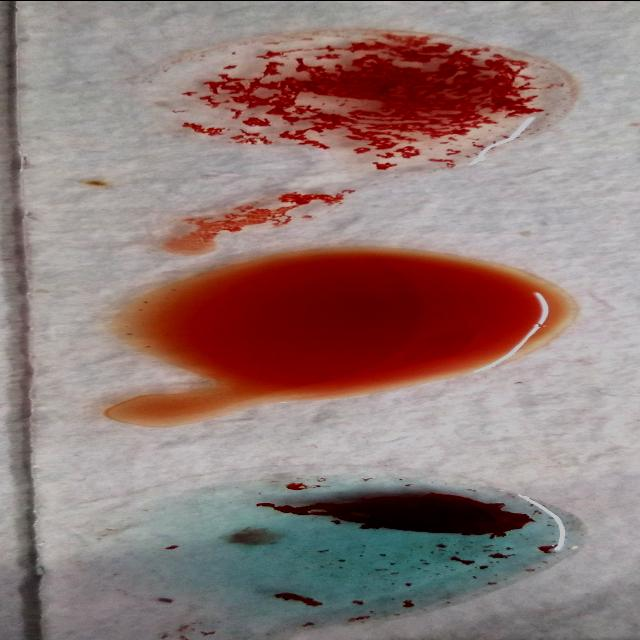A: (160, 474, 580, 620)
D: (138, 31, 570, 152)
